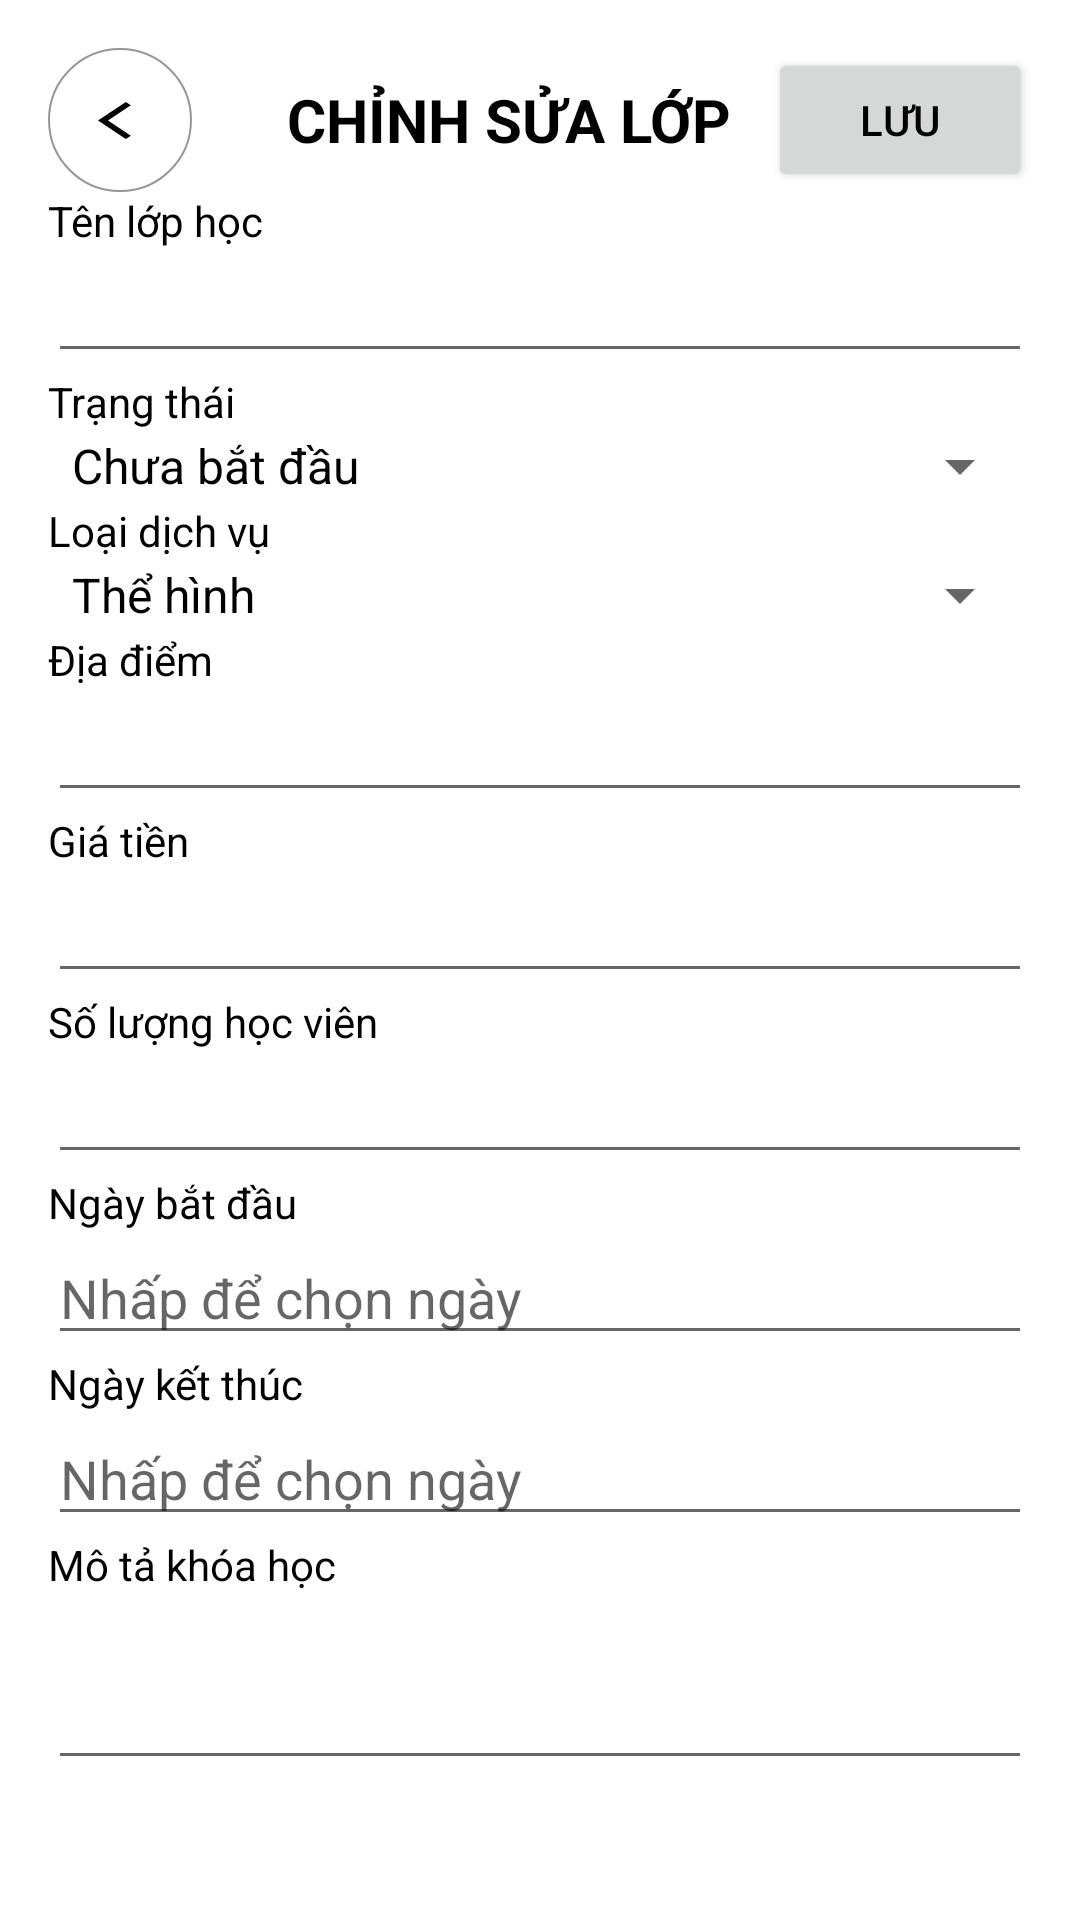

Named icons in this screenshot (1080w x 1920h) and their bounding boxes, (x1,y1,x2,y2):
back1: (48,48,192,192)
